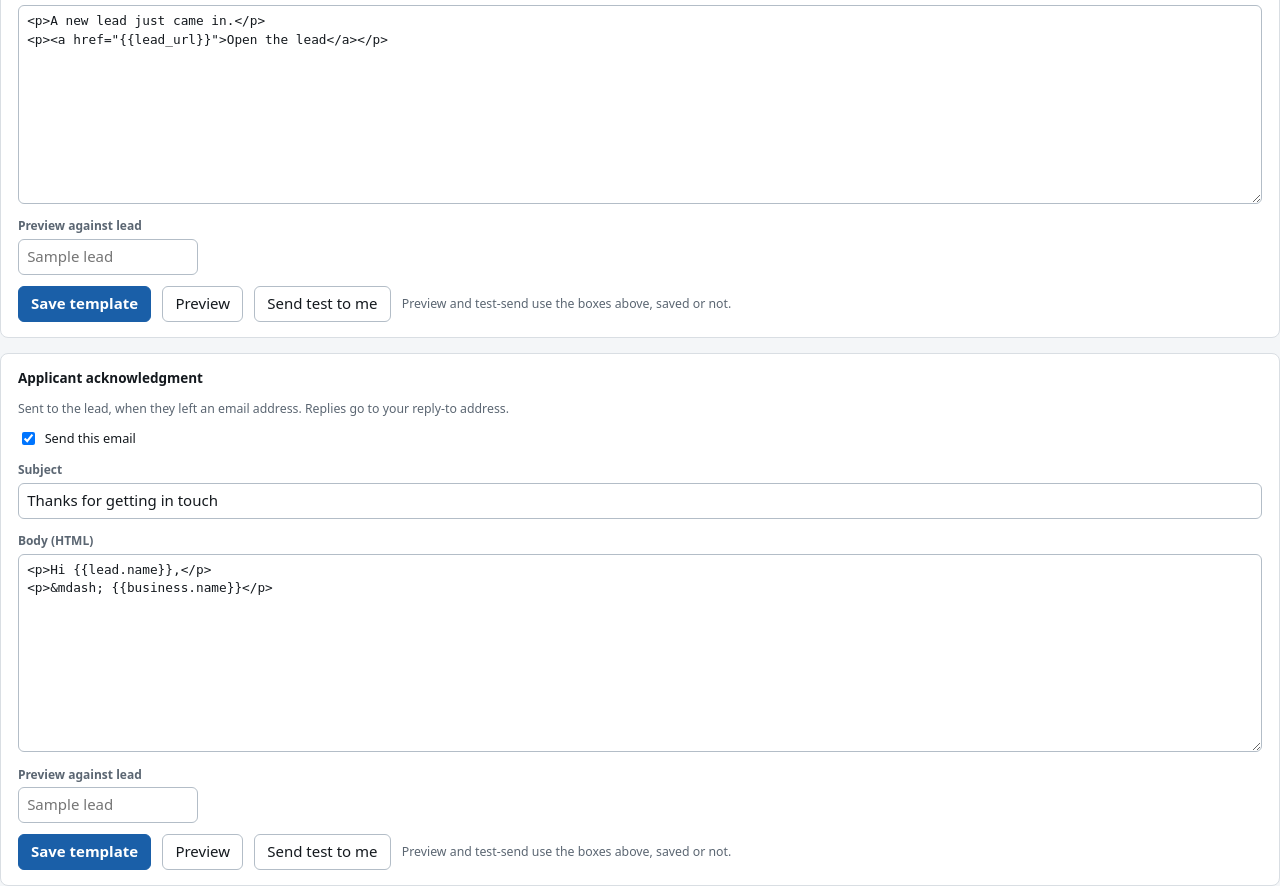
it: EmailTemplates › passes the mail server’s complaint through
(page scrolled)
Click the 2nd button "Send test to me" at [322, 852], box [254, 834, 390, 870]
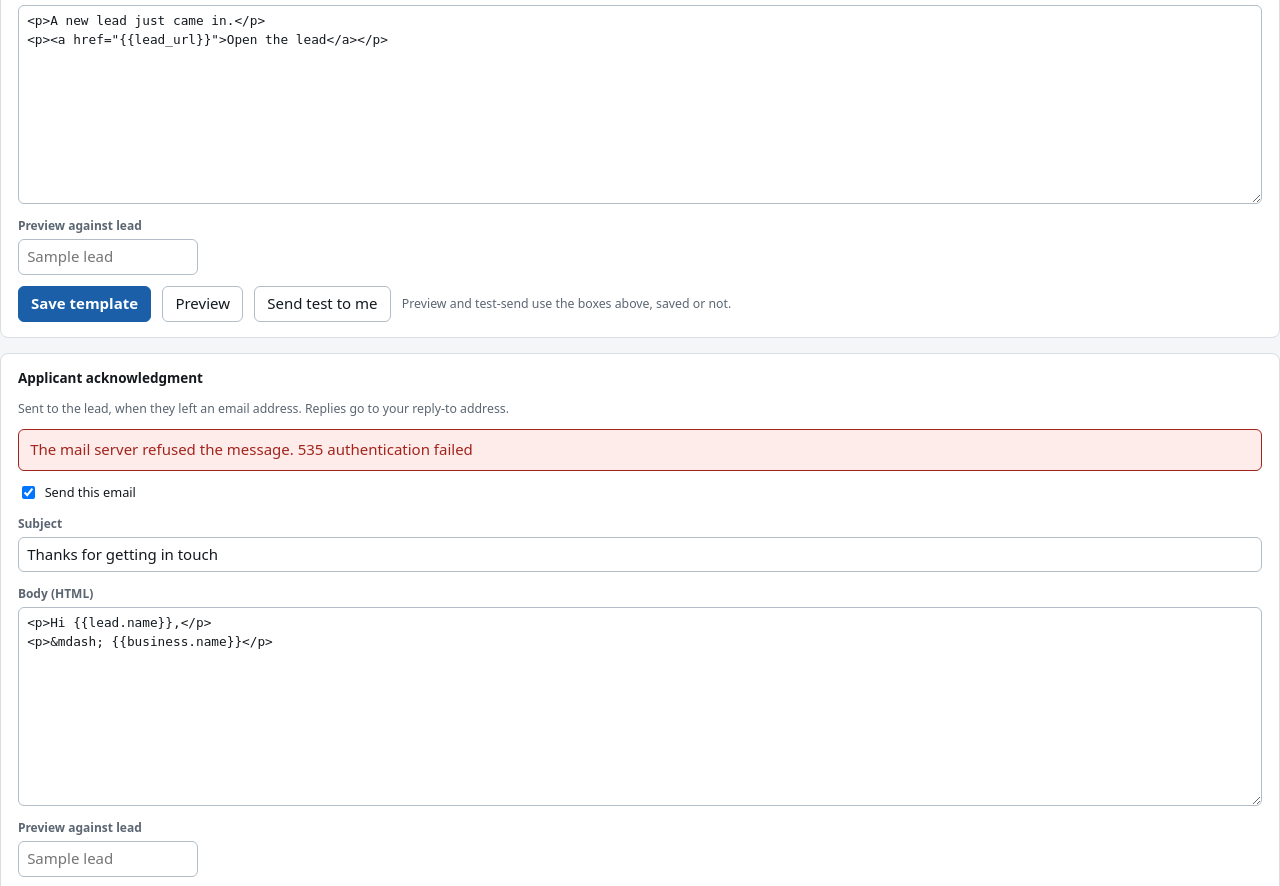
expect the text "The mail server refused the message. 535 authentication failed" is shown: met, box [18, 429, 1262, 471]
